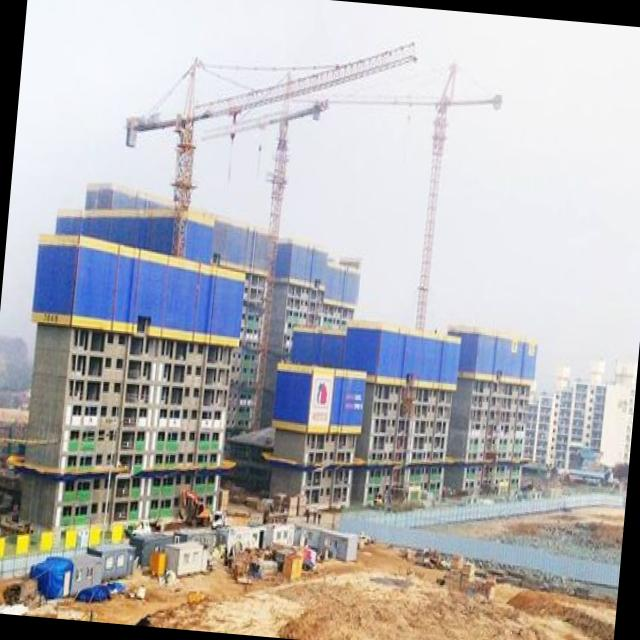red-sand: (21, 545, 616, 640)
